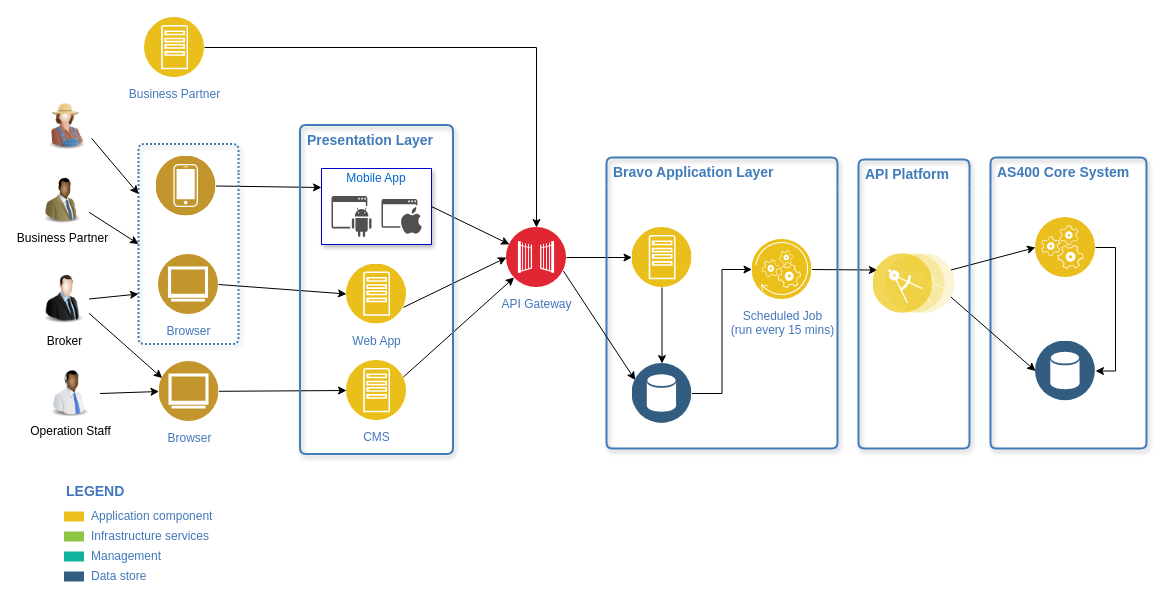
This 1171x600 diagram has some shape labels left out. Each missing label, with the centre of its shape:
Application Server: point 662,257
Client: point 66,124
CLP: point 1065,247
Data Files: point 1065,370
Database: point 662,393
Mobile Device: point 186,186
System API: point 913,283
